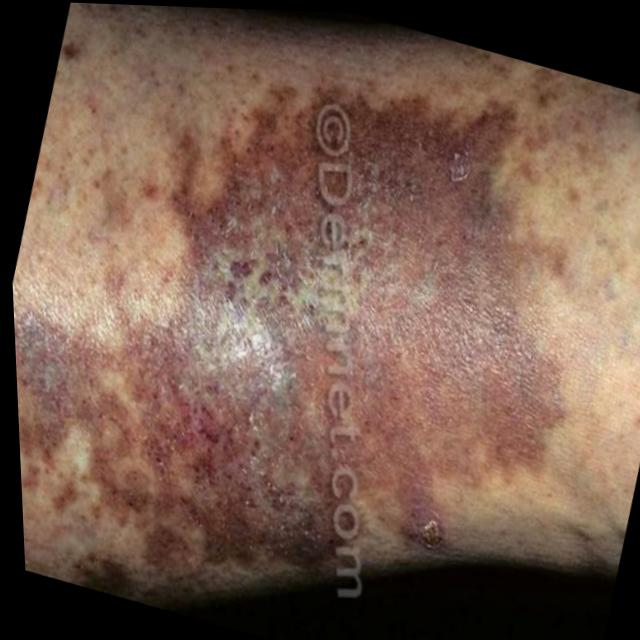Eczema: (0, 0, 601, 640)
